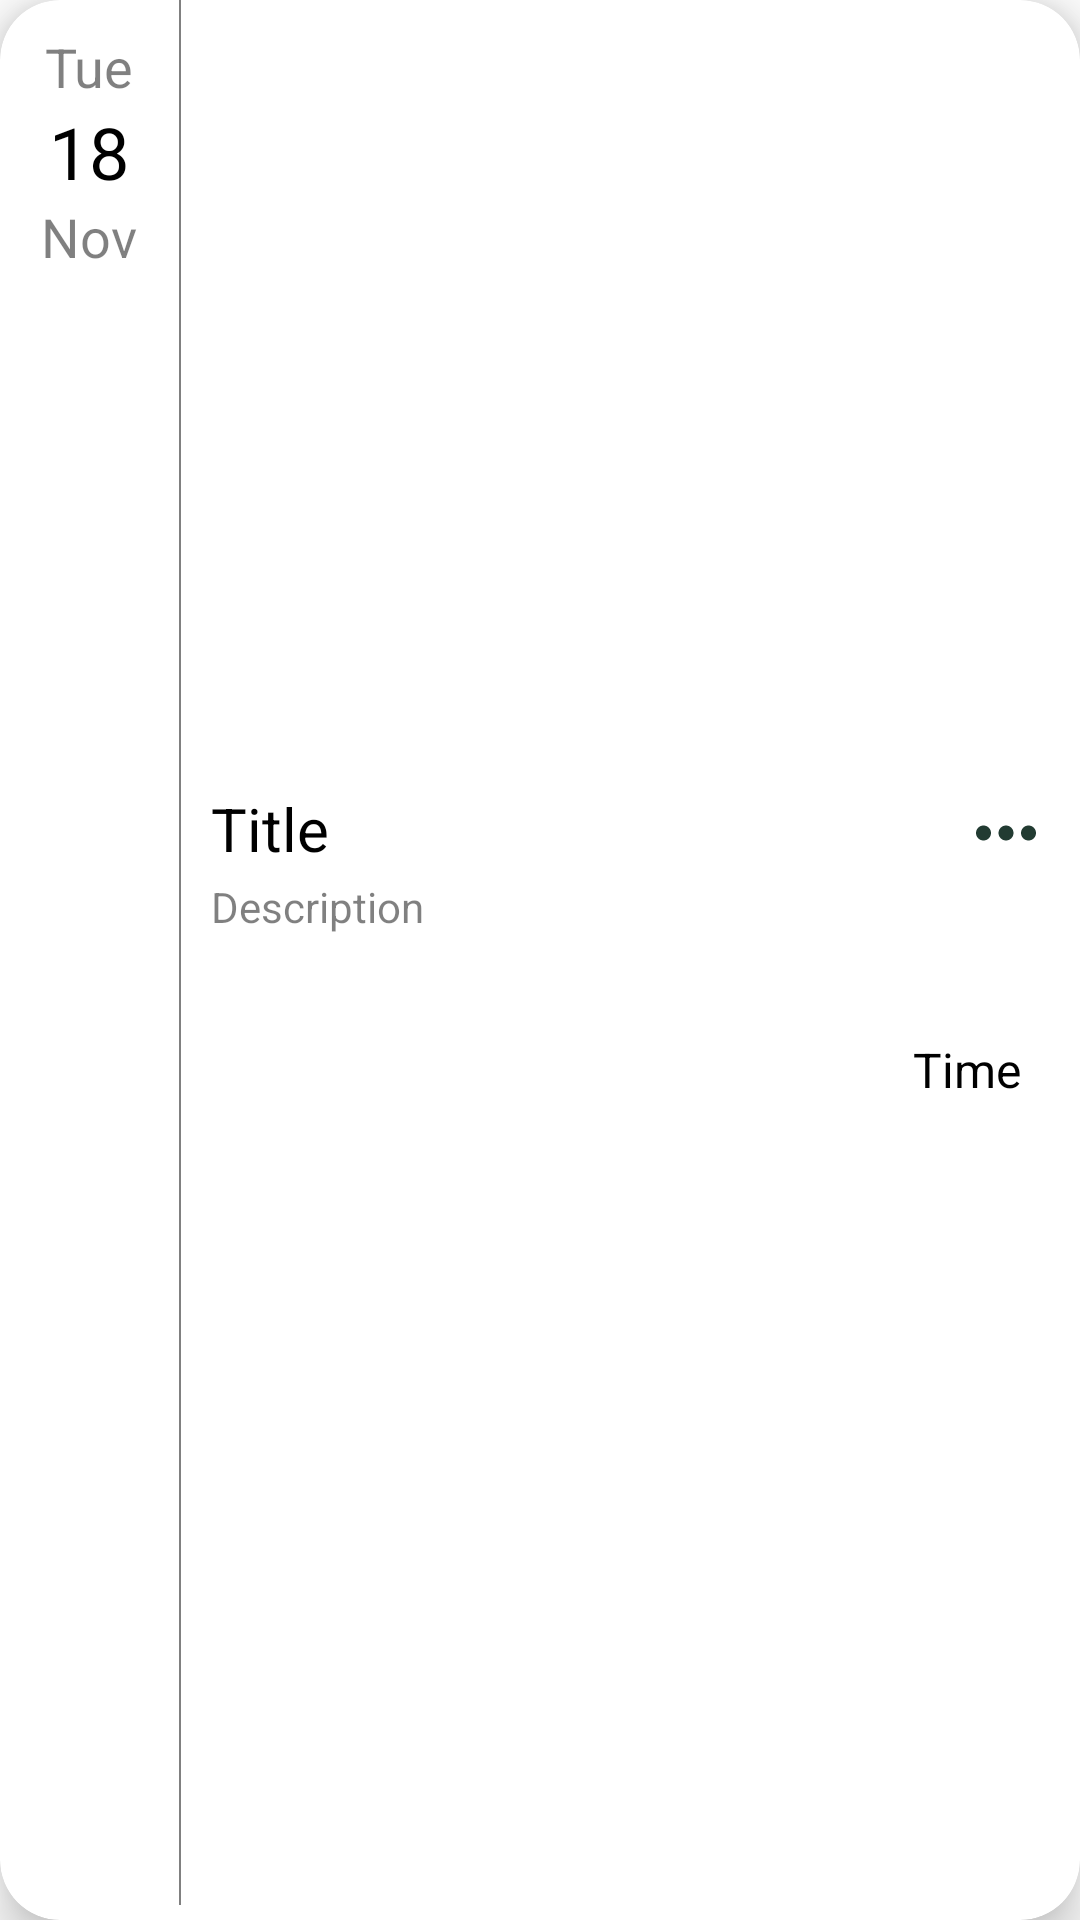

Icons on this 1080*1920 Android screen, each with the point to tap as [x,y]:
more horiz: [1006,833]
